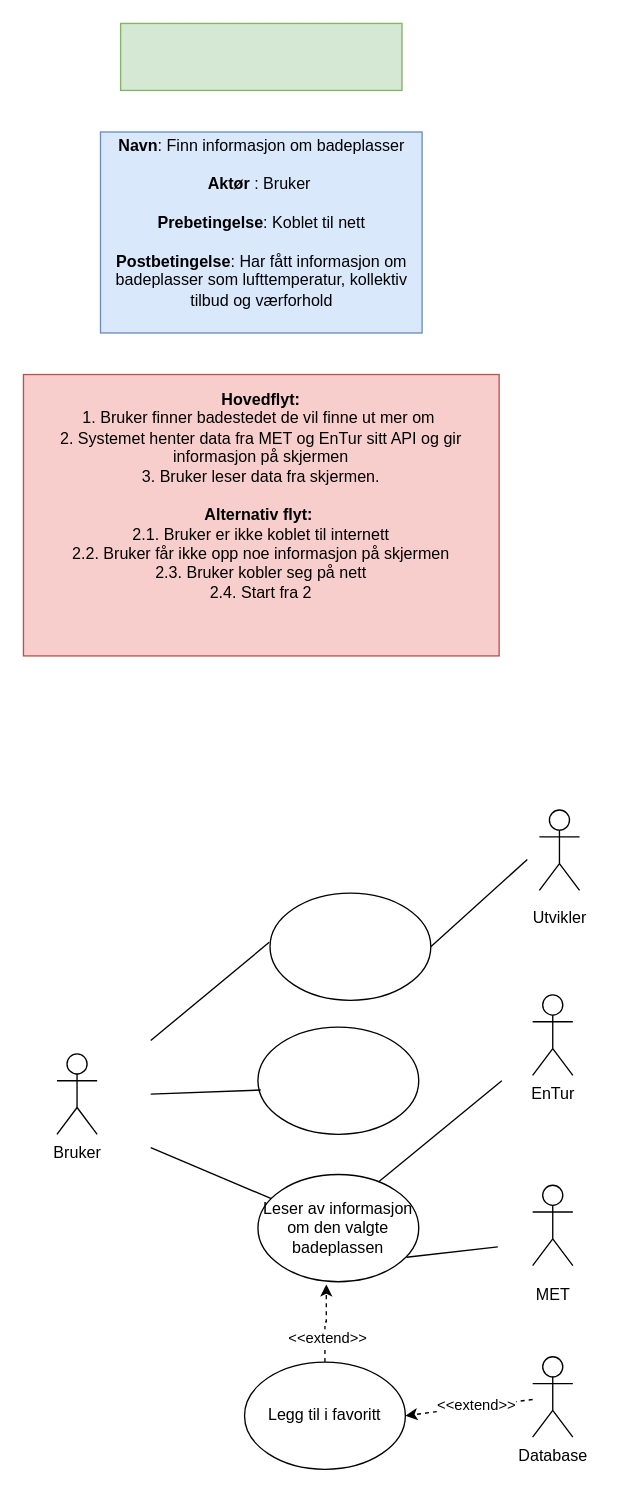
Some shapes in this 623 by 1493 pixel diagram are drawn without their labels. Each missing label, with the centre of its shape:
"Brukerhistorie : Som en bruker, ønsker jeg å se informasjon om badesteder" goes at [260,56].
"Ser en oversikt over badeplasser i kartet" goes at [350,946].
"Velger en badeplass" goes at [338,1080].
